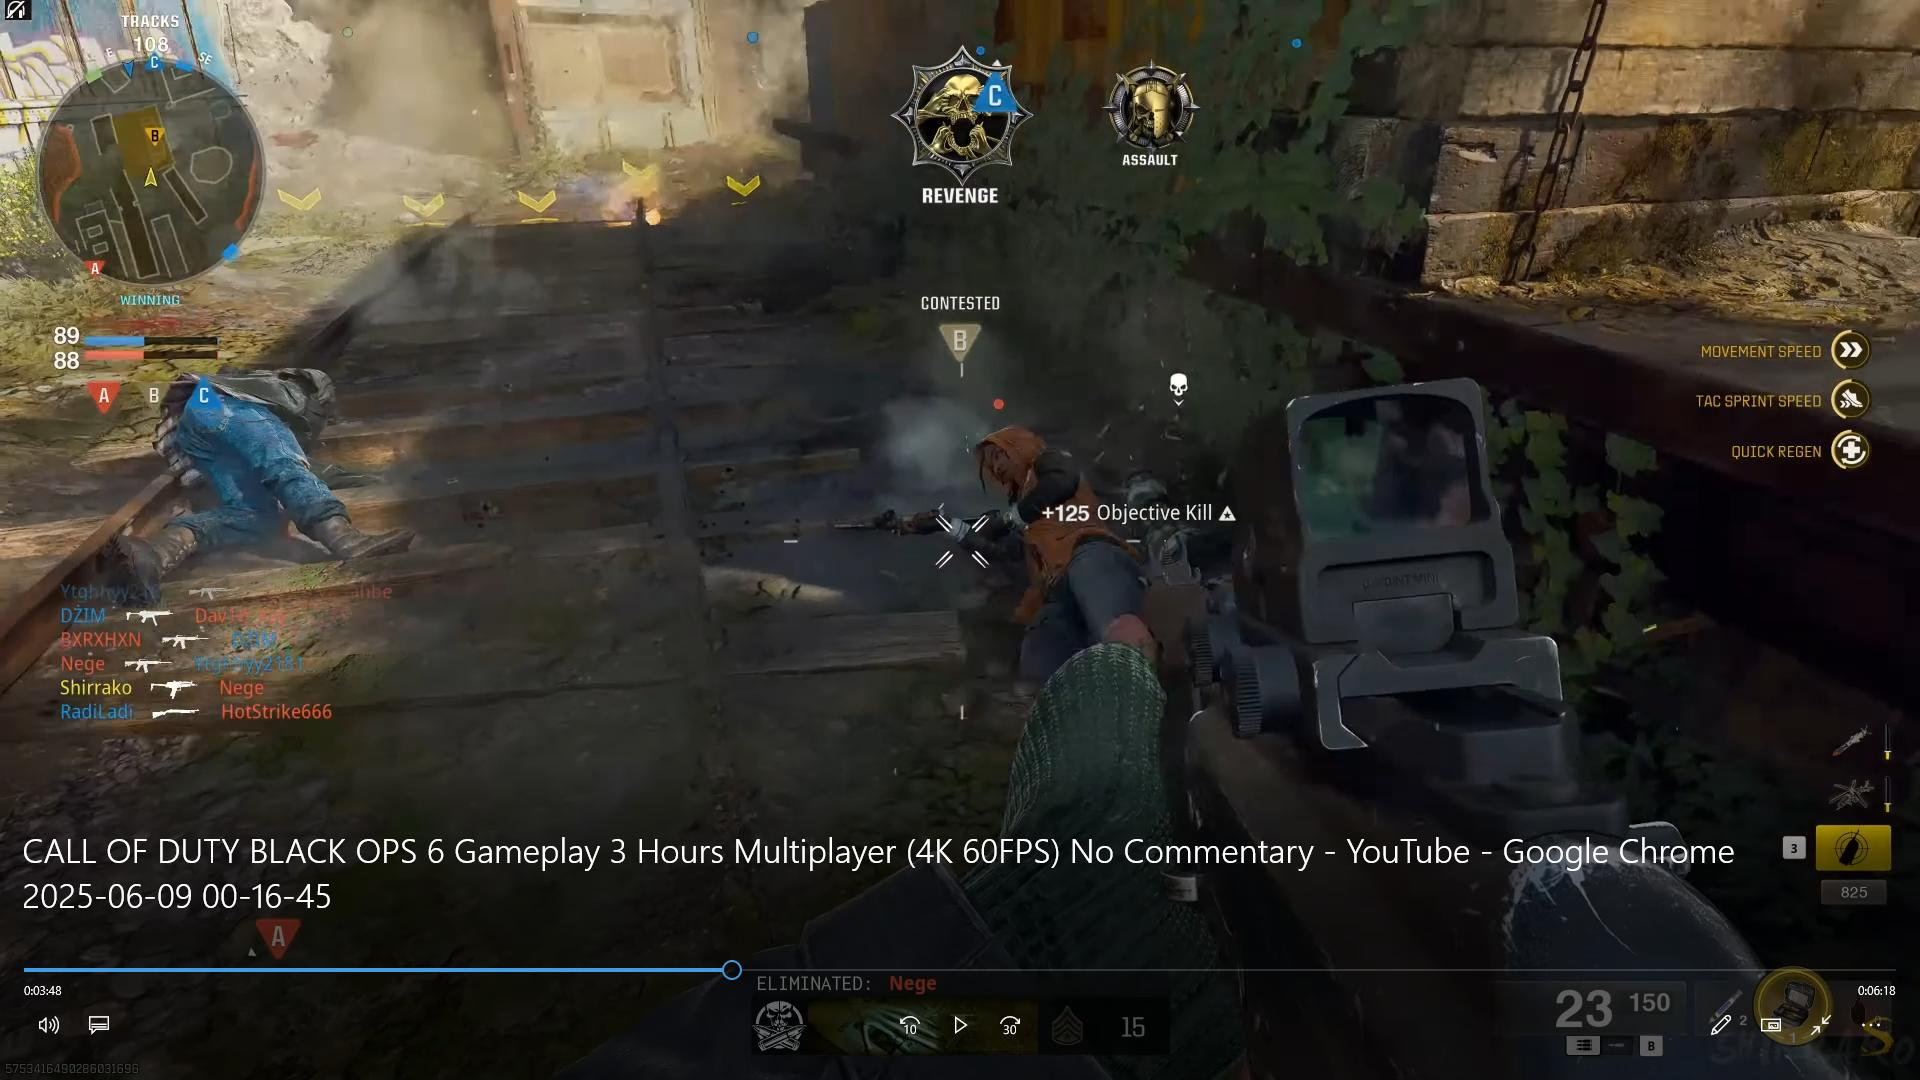Enemy: (948, 427, 1133, 653)
